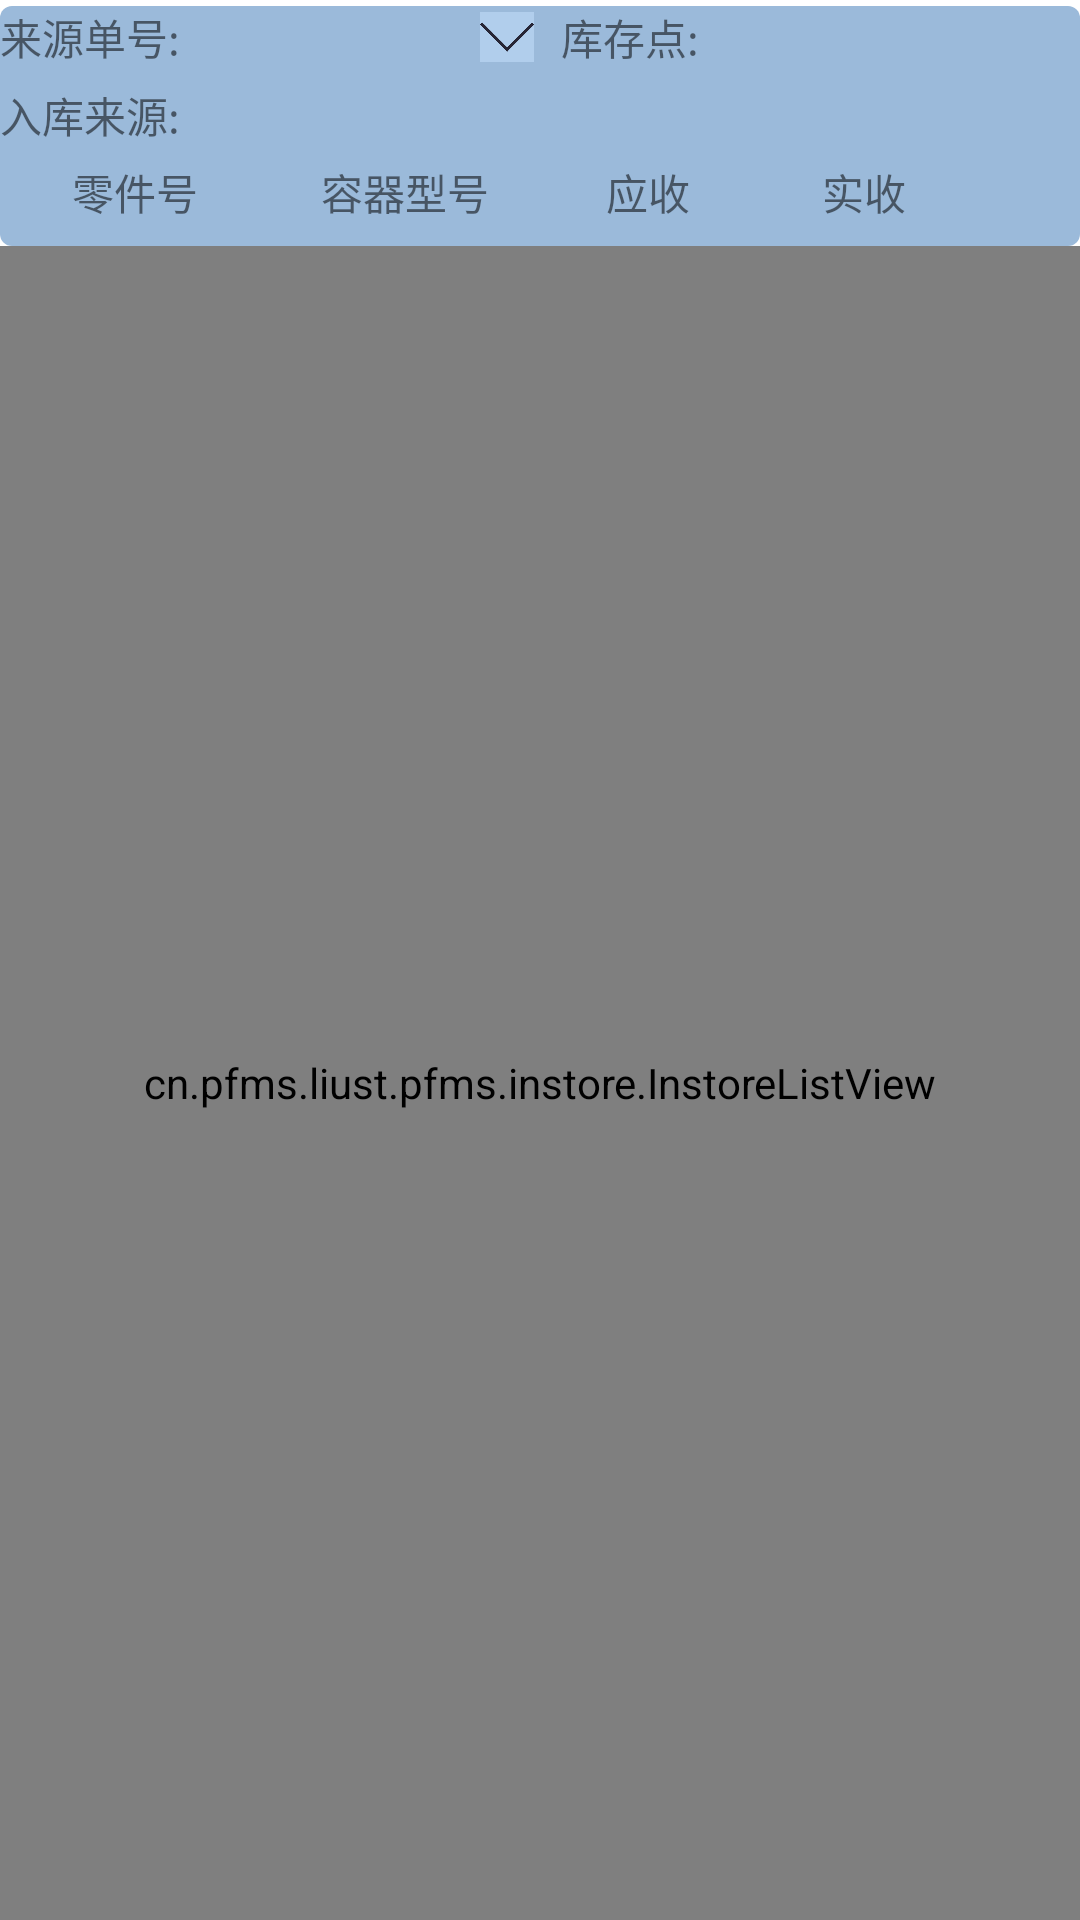

Icons on this 1080 × 1920 Android screen, each with its box as bbox(x1, y1, x2, y2):
spinner: bbox(480, 12, 534, 62)
